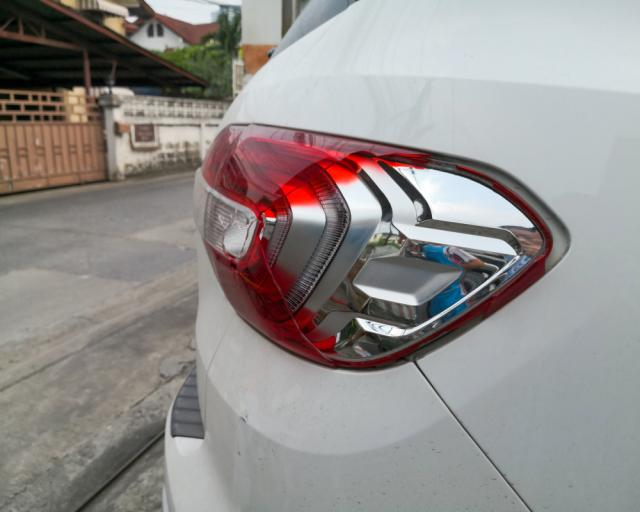lamp broken: (196, 123, 560, 370)
